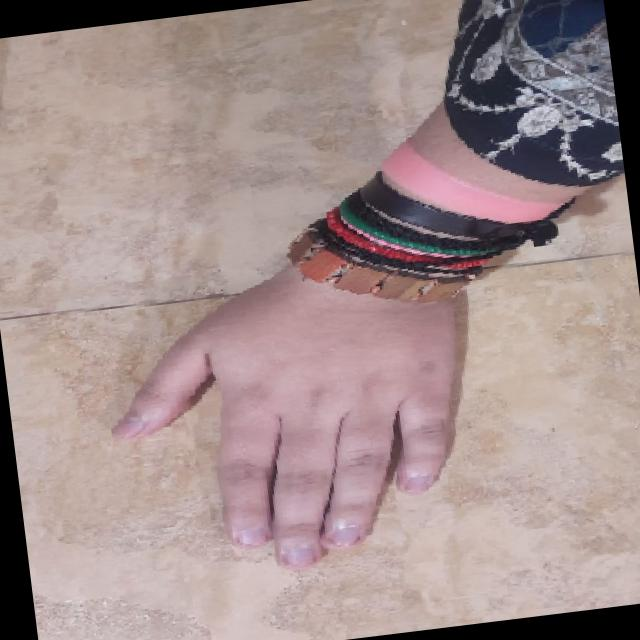Nail: (110, 412, 143, 437), (282, 547, 316, 567), (234, 526, 266, 547), (331, 526, 359, 546), (405, 474, 433, 493)
